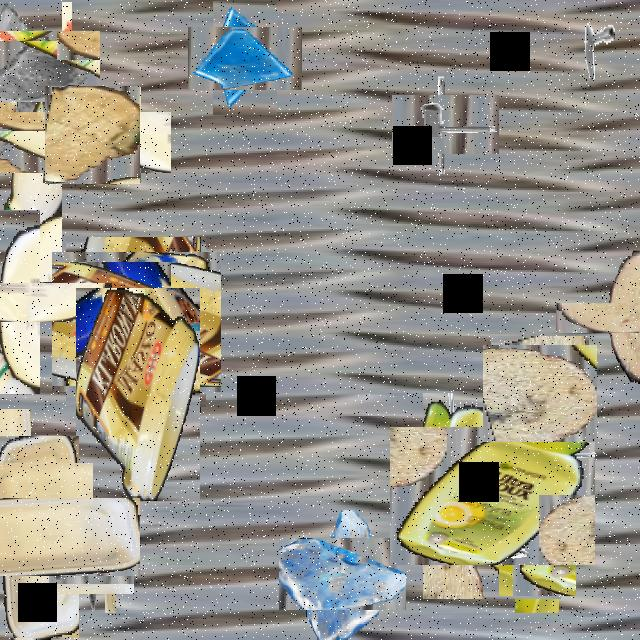glass: (292, 524, 392, 624), (0, 16, 86, 116), (200, 14, 290, 103)
metal: (404, 83, 488, 166), (0, 450, 81, 534), (59, 537, 125, 604), (423, 453, 469, 535), (507, 544, 568, 604), (573, 4, 615, 78)
plastic: (406, 410, 578, 582), (76, 288, 200, 501), (58, 244, 214, 400), (0, 56, 116, 227), (0, 466, 109, 607), (0, 245, 76, 358)
wood: (487, 340, 593, 446), (44, 86, 140, 184), (0, 439, 33, 638), (582, 276, 640, 359), (0, 409, 31, 558)
